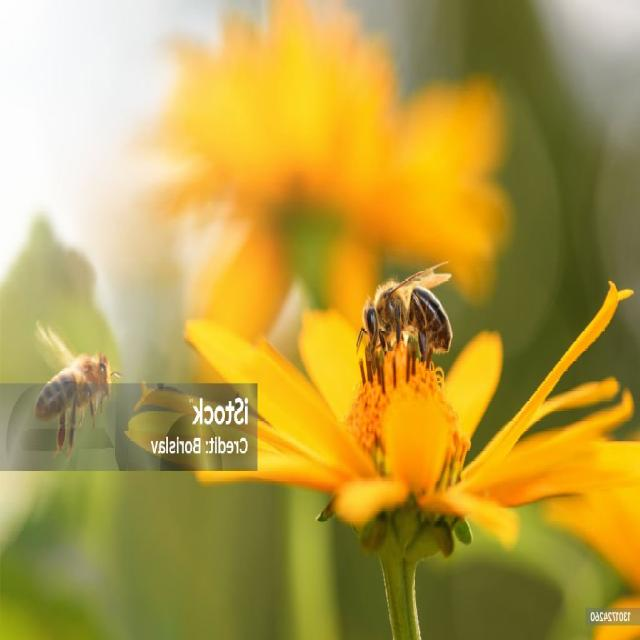bees: (26, 317, 120, 461), (355, 254, 455, 376)
